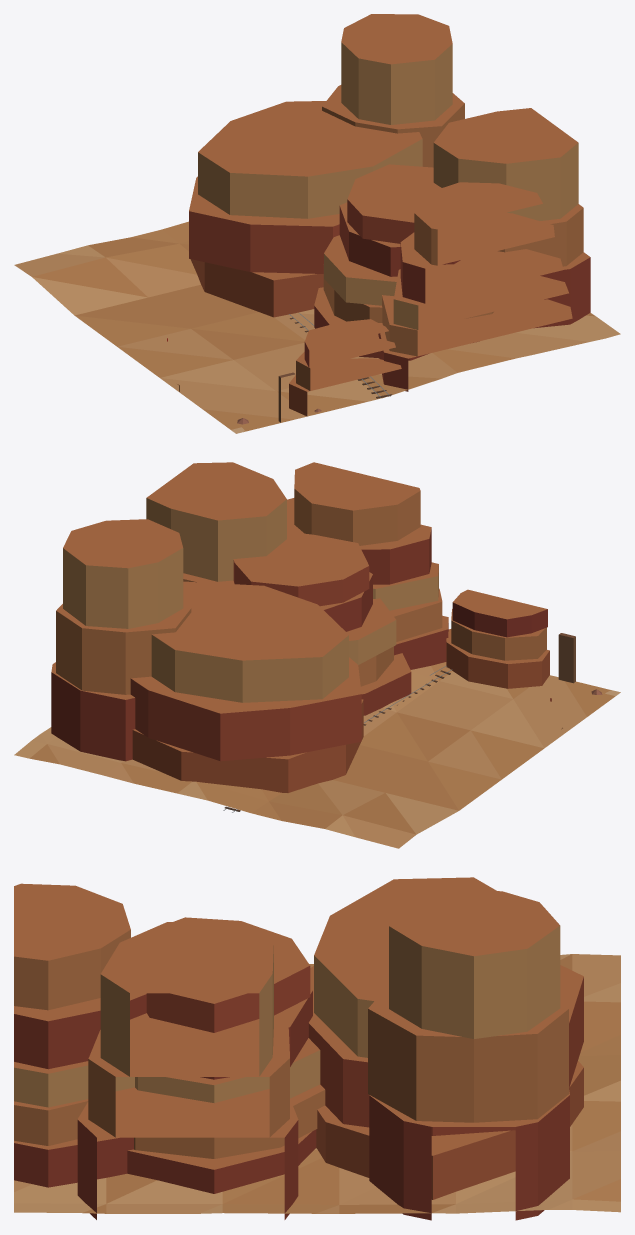
3 renders of one model, top to bottom at view 1: azimuth 30°, elevation 25°; view 2: azimuth 150°, elevation 25°; view 3: azimuth 270°, elevation 25°, orthographic. The views are drawn at different scales.
Visible parts, largest first — view 1: baked; view 2: baked; view 3: baked.
Part boxes in pixels (box(x1,y1,x2,y2)): baked: box(14, 14, 620, 433); baked: box(14, 462, 620, 848); baked: box(14, 877, 620, 1220).
Bounding box in the file's own units: 62.5 × 29.76 × 62.5.
